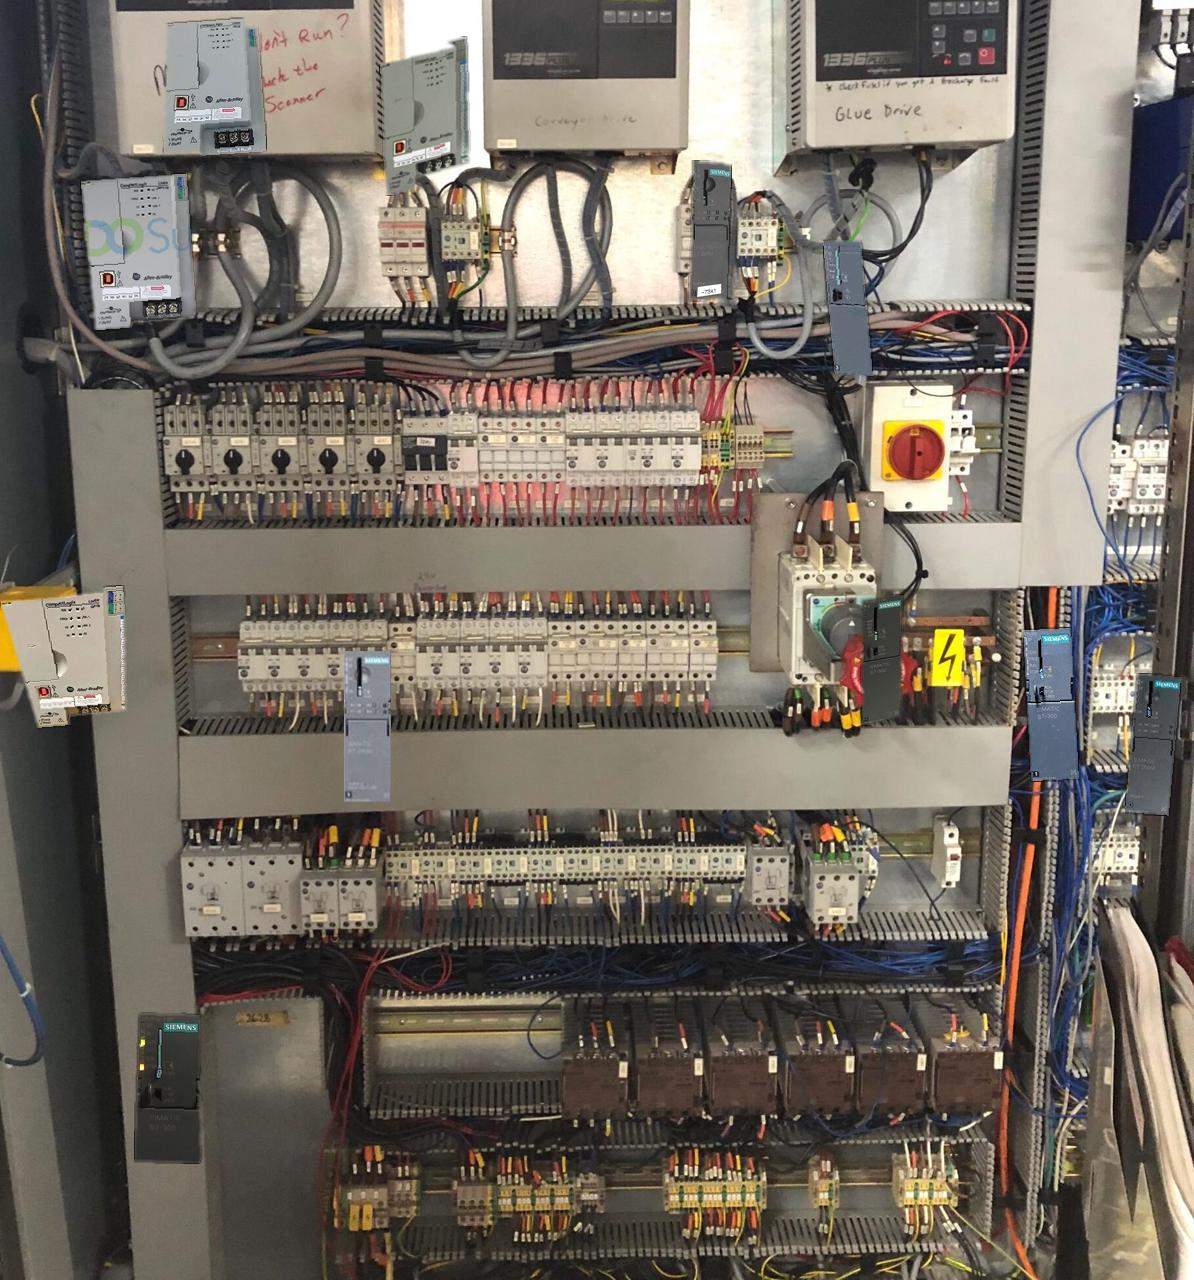AllenBradley: (81, 173, 194, 329), (1, 586, 125, 727), (380, 37, 468, 194), (164, 19, 265, 155)
Siemens: (134, 1014, 200, 1162), (1023, 628, 1078, 780), (823, 240, 872, 375), (862, 595, 902, 724)
